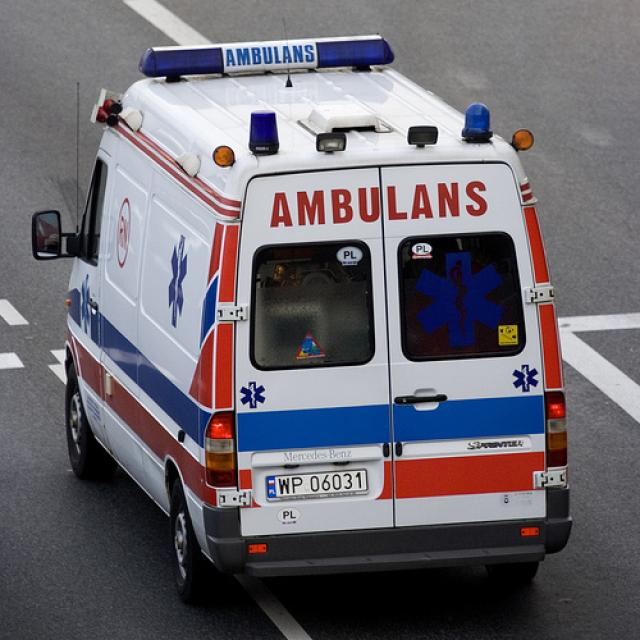emergency-vehicle: (212, 188, 571, 570)
